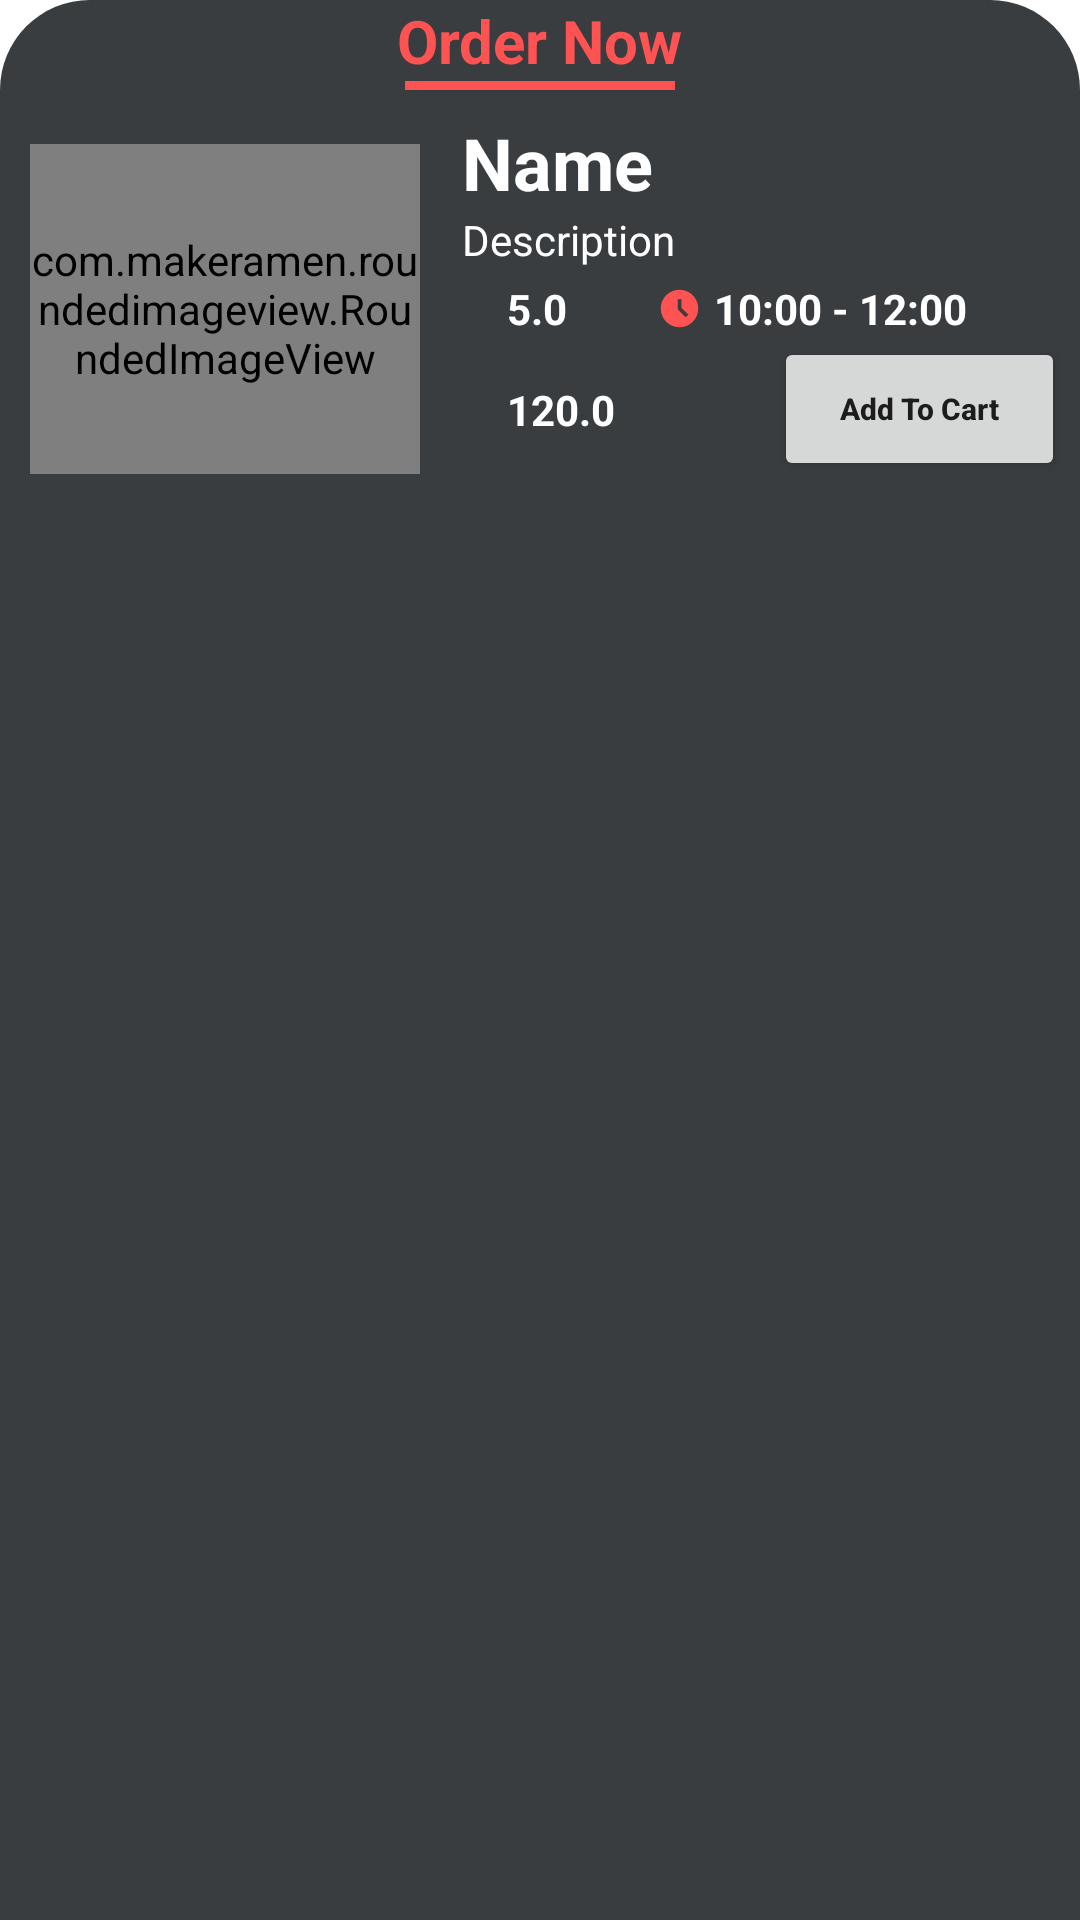

Named icons in this screenshot (1080×1920) and their centers, (x=x, y=y):
access time: (x=679, y=308)
